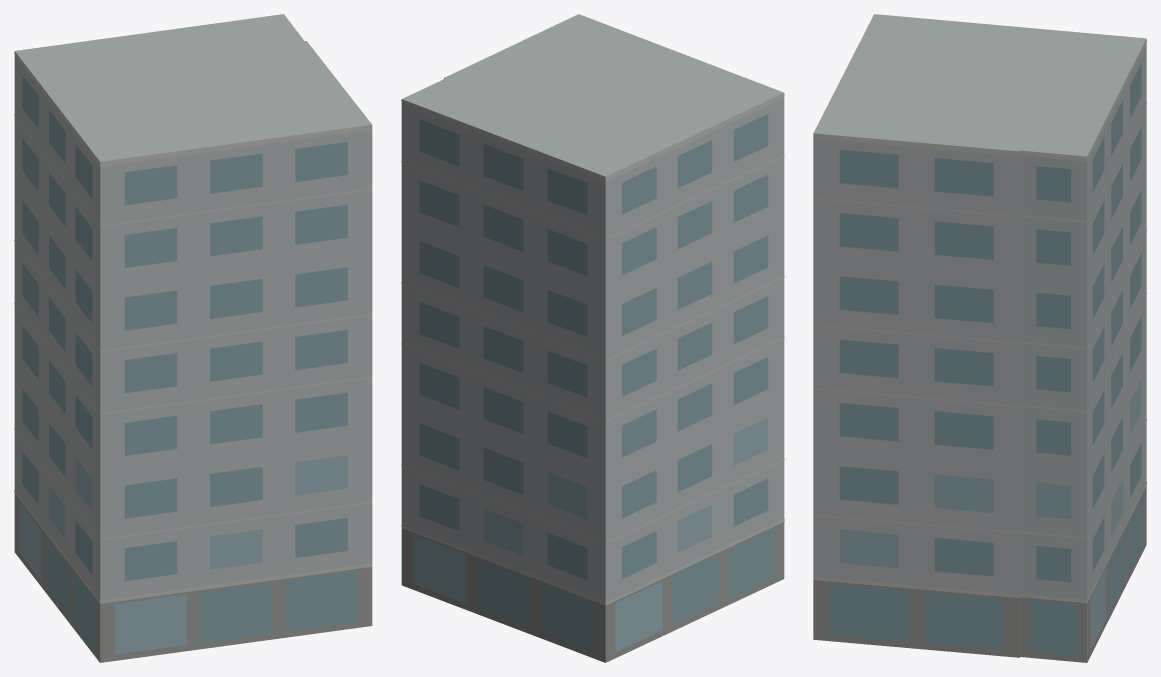
The model's file is survey-upis-32665021.glb.
3 views of the same model, side by side, from view 1: azimuth 30°, elevation 25°; view 2: azimuth 150°, elevation 25°; view 3: azimuth 270°, elevation 25° (orthographic). The views are drawn at different scales.
Visible parts, largest first — view 1: survey-upis-32665021.tmp; view 2: survey-upis-32665021.tmp; view 3: survey-upis-32665021.tmp.
Part boxes in pixels (left/top/right/bottom): survey-upis-32665021.tmp: left=14, top=14, right=372, bottom=662; survey-upis-32665021.tmp: left=401, top=14, right=784, bottom=662; survey-upis-32665021.tmp: left=813, top=14, right=1146, bottom=662.
Size of the model in its own units: 13.85 by 22.9 by 13.69.
